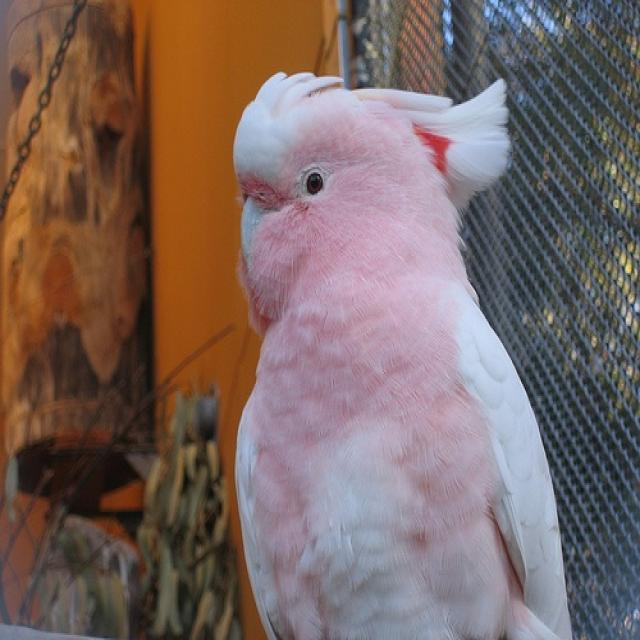bird: (229, 65, 577, 638)
